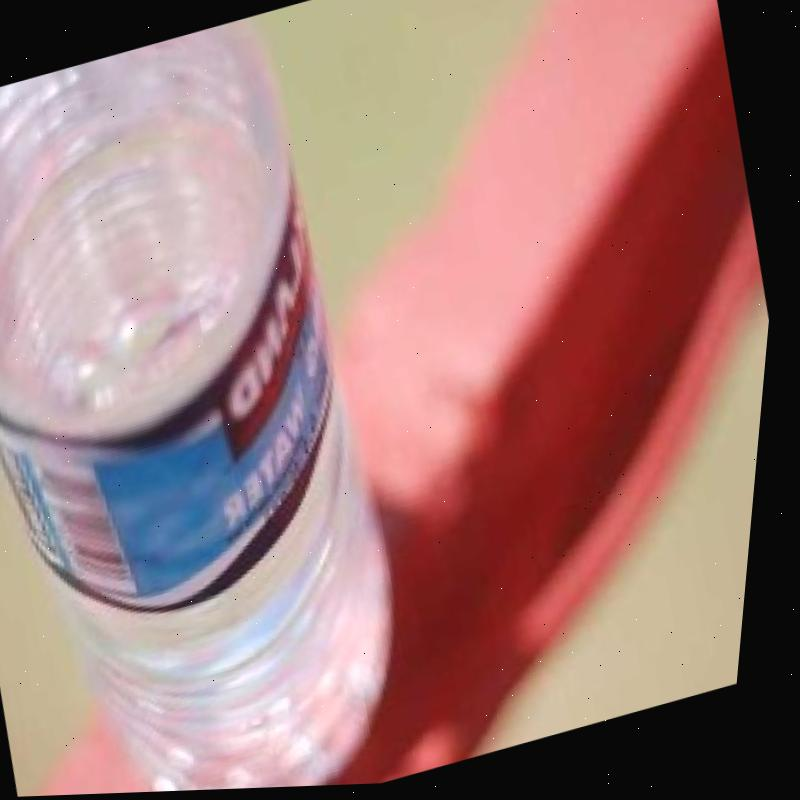botella: (0, 0, 494, 800)
